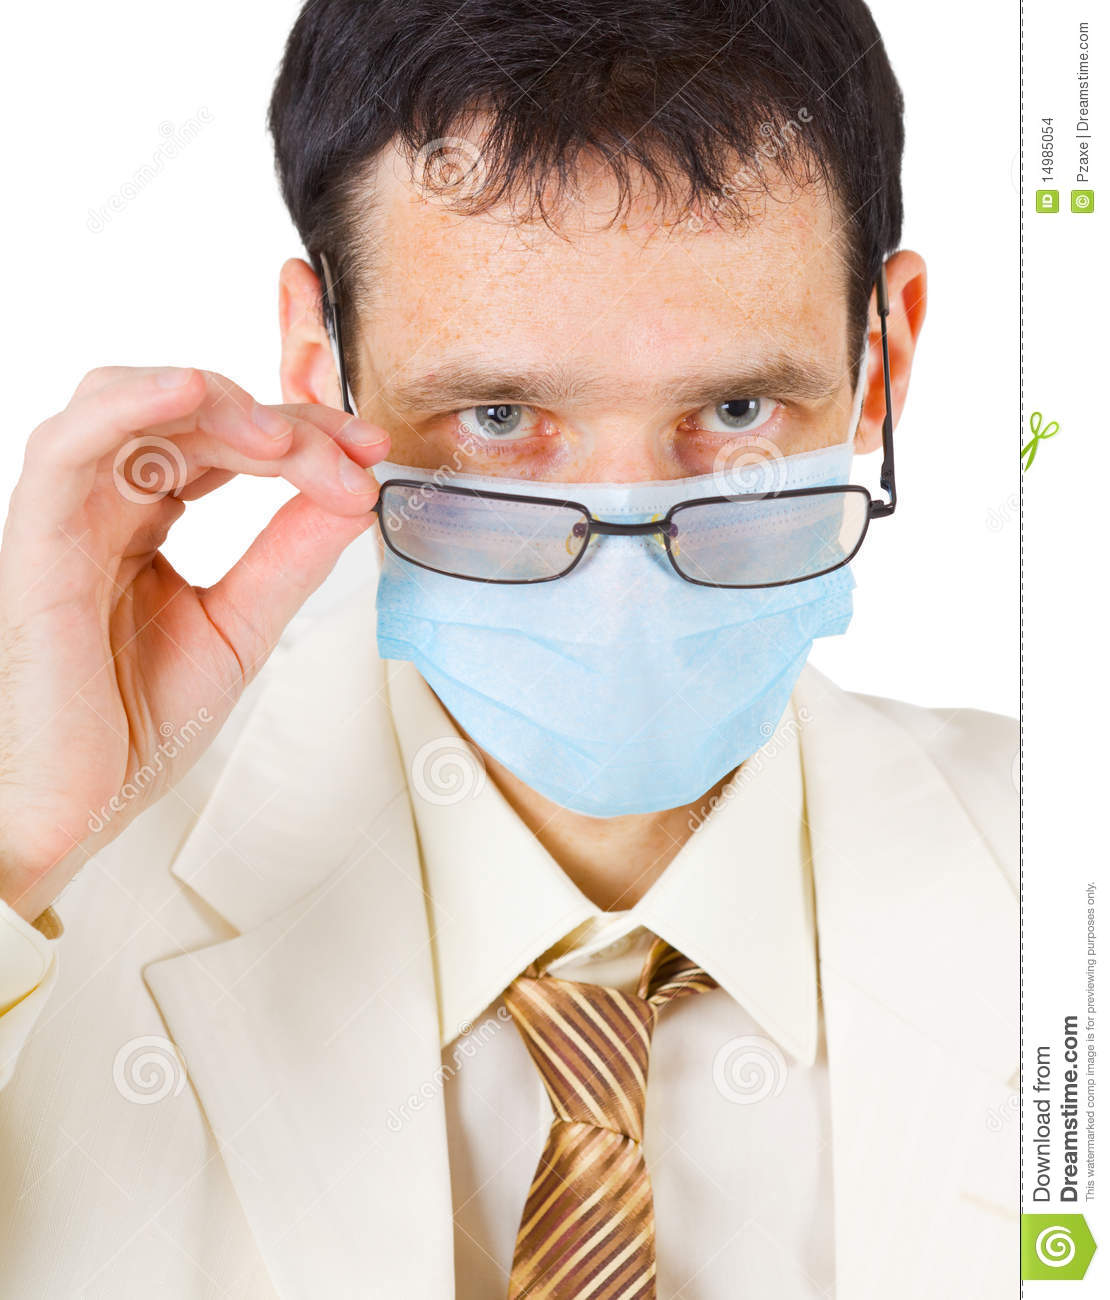mask: (371, 463, 866, 819)
